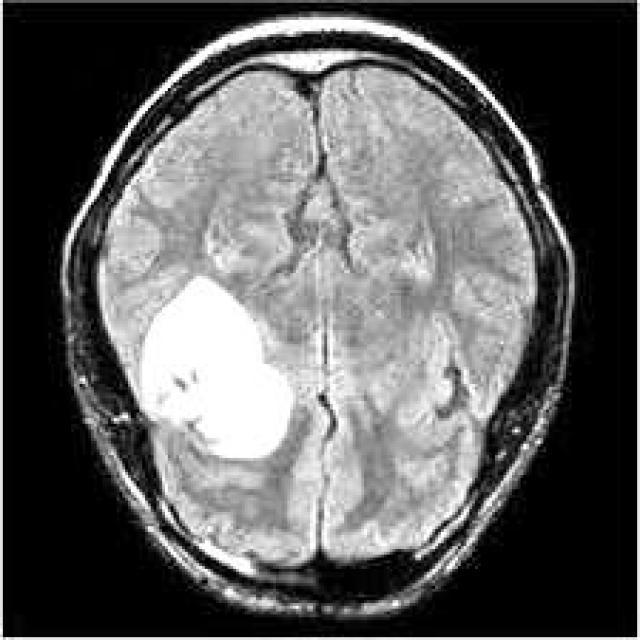tumor: (137, 279, 296, 464)
